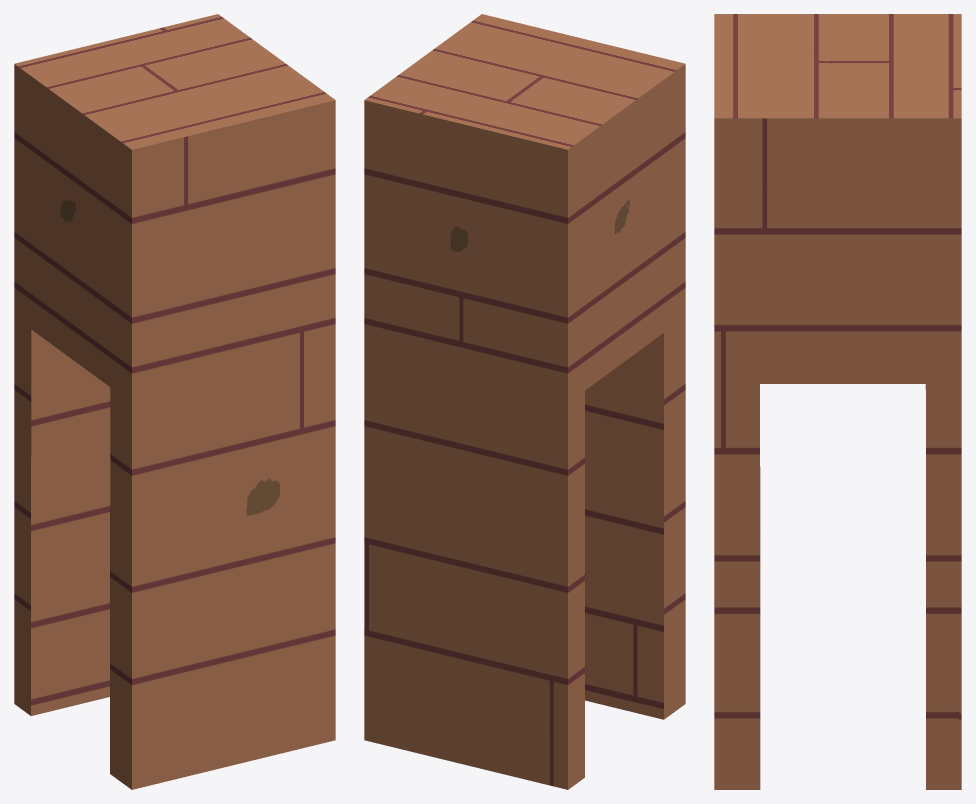
Rendered from door 1.fbx.
3 renders of one model, left to right at view 1: azimuth 30°, elevation 25°; view 2: azimuth 150°, elevation 25°; view 3: azimuth 270°, elevation 25°, orthographic. The views are drawn at different scales.
Parts seen in each view (by area): view 1: Door; view 2: Door; view 3: Door.
Part boxes in pixels (x1,y1,x2,y2): Door: (14, 14, 335, 789); Door: (364, 14, 685, 789); Door: (714, 14, 961, 789).
Bounding box in the file's own units: 100 × 300 × 100.
